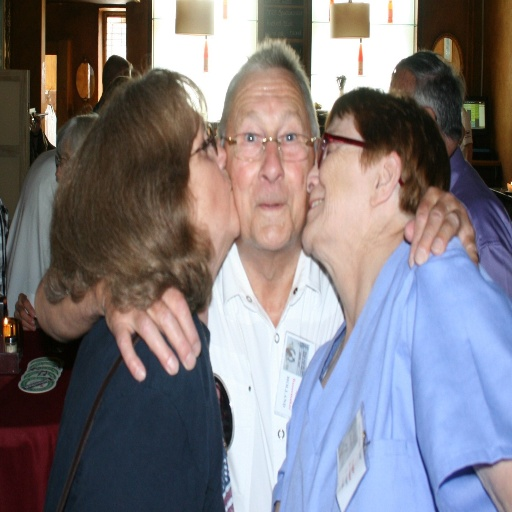hand: (100, 273, 202, 383), (401, 183, 483, 270), (13, 292, 37, 333)
